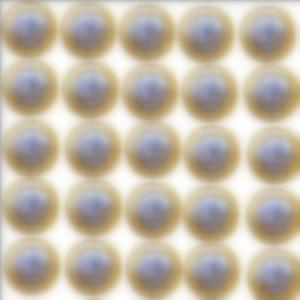1 real: (62, 238, 120, 297), (1, 237, 58, 297), (0, 0, 58, 57), (58, 0, 114, 59), (243, 62, 298, 122), (125, 240, 182, 297), (240, 3, 298, 59), (180, 63, 234, 122), (173, 4, 232, 58), (0, 60, 57, 114), (179, 188, 238, 240), (247, 188, 299, 247), (188, 124, 237, 186), (120, 3, 173, 60), (60, 60, 114, 115), (184, 244, 241, 296), (245, 125, 296, 183), (5, 178, 58, 232), (245, 248, 298, 299), (0, 126, 56, 174), (128, 122, 175, 179), (68, 180, 119, 231), (123, 65, 172, 118), (127, 186, 177, 237), (71, 123, 117, 178)
